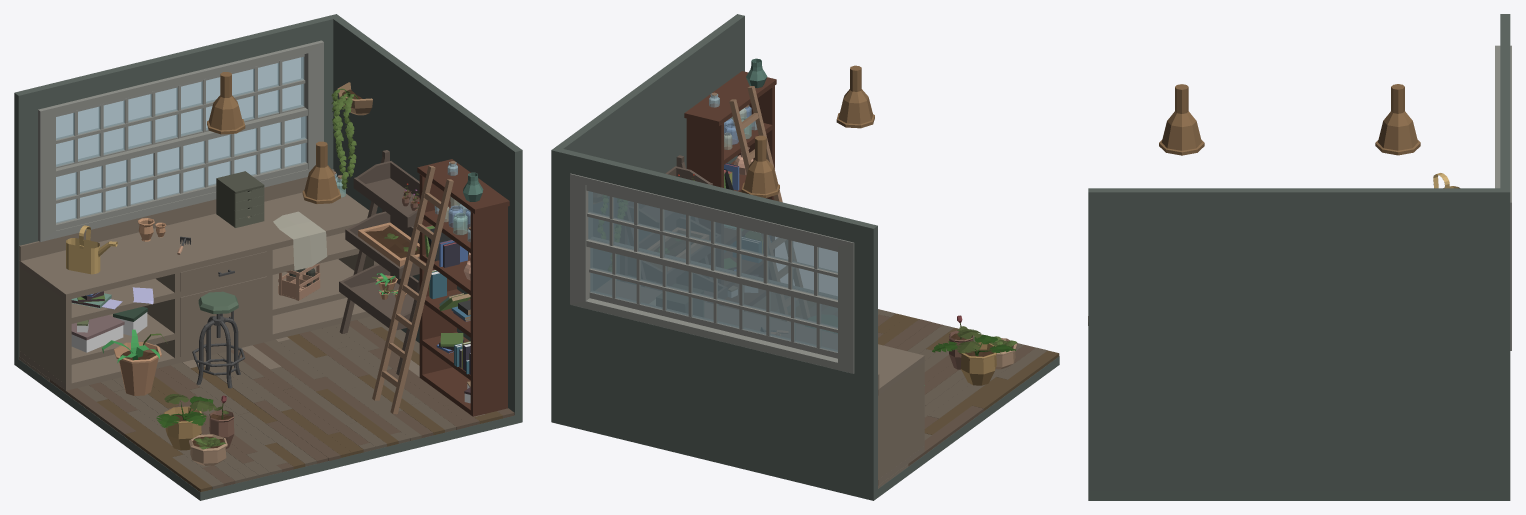
Rendered from gardeners-room.fbx.
3 views of the same model, side by side, from view 1: azimuth 30°, elevation 25°; view 2: azimuth 150°, elevation 25°; view 3: azimuth 270°, elevation 25° (orthographic). The views are drawn at different scales.
Parts seen in each view (by area): view 1: Cube_Wood_0, Cube.002_Table_0, Cube.157_Window.001_0, Cube.151_Window.001_0, Cube.149_Window_0, Cube.004_Wodrobe_0, Cube.036_Table_0, Cube.029_Table_0, Cube.026_Table_0, Cube.021_Wood.002_0, Cube.020_Wood.002_0, Cube.003_Wodrobe_0 (+68 smaller); view 2: Cube_Wood_0, Cube.151_Window.001_0, Cube.149_Window_0, Cube.157_Window.001_0, Cube.036_Table_0, Cube.002_Table_0, Cube.003_Wodrobe_0, Cube.152_Window_0, Cube.154_Window_0, Cube.005_Wodrobe_0, Cube.158_Window_0, Cylinder.004_Lamp_0 (+15 smaller); view 3: Cube_Wood_0, Cylinder.004_Lamp_0, Cylinder.001_Lamp_0, Cube.149_Window_0.
Part boxes in pixels (<box>): Cube_Wood_0: <box>14,14,522,500</box>; Cube.002_Table_0: <box>19,190,368,300</box>; Cube.157_Window.001_0: <box>56,116,306,223</box>; Cube.151_Window.001_0: <box>56,57,304,166</box>; Cube.149_Window_0: <box>38,40,323,241</box>; Cube.004_Wodrobe_0: <box>470,206,507,411</box>; Cube.036_Table_0: <box>19,266,71,384</box>; Cube.029_Table_0: <box>19,298,371,390</box>; Cube.026_Table_0: <box>19,169,334,261</box>; Cube.021_Wood.002_0: <box>353,161,419,227</box>; Cube.020_Wood.002_0: <box>339,264,419,330</box>; Cube.003_Wodrobe_0: <box>419,174,456,374</box>; Cube_Wood_0: <box>551,14,1059,500</box>; Cube.151_Window.001_0: <box>588,191,837,300</box>; Cube.149_Window_0: <box>570,173,854,373</box>; Cube.157_Window.001_0: <box>590,247,837,352</box>; Cube.036_Table_0: <box>878,362,924,479</box>; Cube.002_Table_0: <box>596,279,924,395</box>; Cube.003_Wodrobe_0: <box>686,118,723,305</box>; Cube.152_Window_0: <box>586,239,837,307</box>; Cube.154_Window_0: <box>589,291,837,358</box>; Cube.005_Wodrobe_0: <box>684,71,776,126</box>; Cube.158_Window_0: <box>586,185,837,251</box>; Cylinder.004_Lamp_0: <box>836,65,874,128</box>; Cube_Wood_0: <box>1088,14,1510,500</box>; Cylinder.004_Lamp_0: <box>1159,84,1204,155</box>; Cylinder.001_Lamp_0: <box>1375,84,1420,155</box>; Cube.149_Window_0: <box>1495,45,1511,350</box>.
Size of the model in its own units: 80000 by 68074 by 80290.
